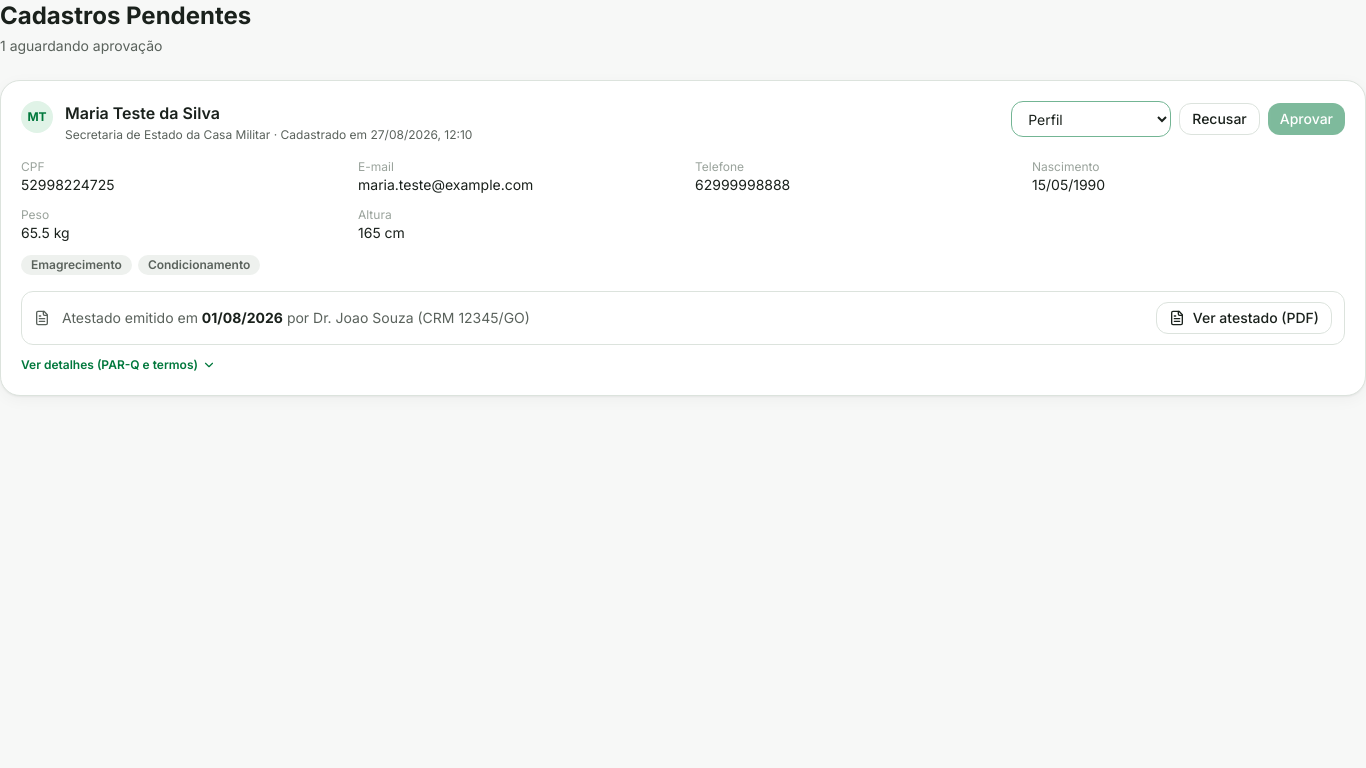
Scenario: PendingRegistrations - aprovar como instrutor › confirma e envia o perfil instrutor, sem categoria de aluno
This screenshot has width=1366, height=768.
Expected: the text "Maria Teste da Silva" is shown, [65,101,220,125]
Select "Instrutor" in the dropdown named "Perfil": point(1091, 119) [1011,101,1171,137]
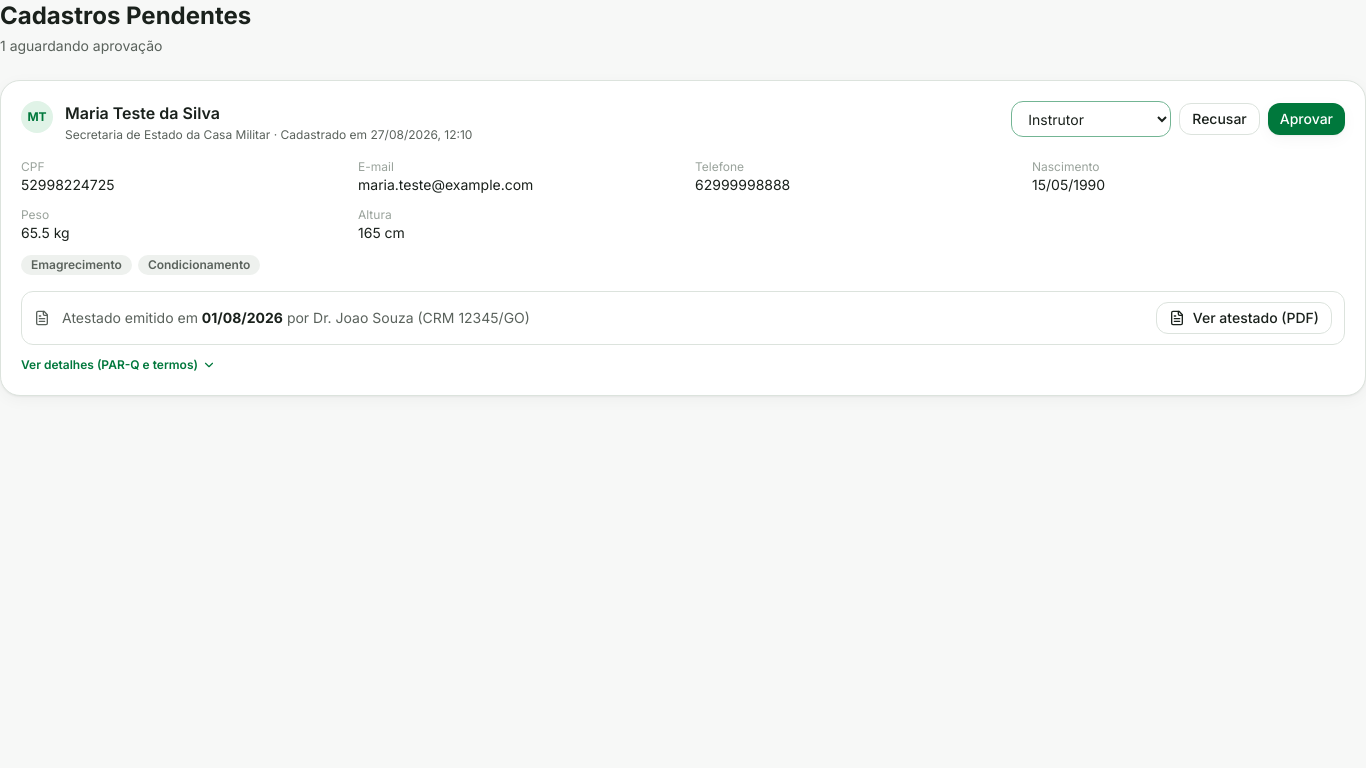
Click the button "Aprovar": point(1306, 119) [1268,103,1345,135]
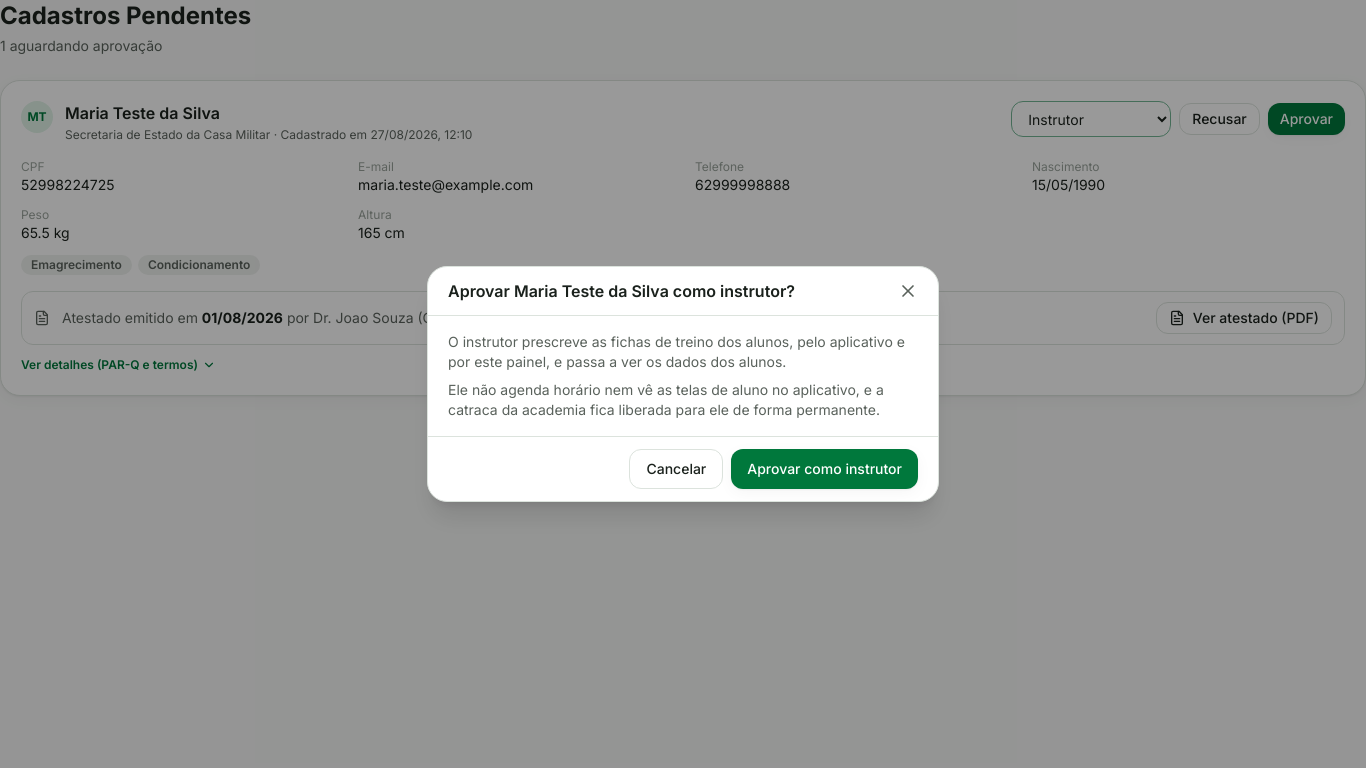
Click the button "Aprovar como instrutor": point(825, 469) [731,449,918,489]
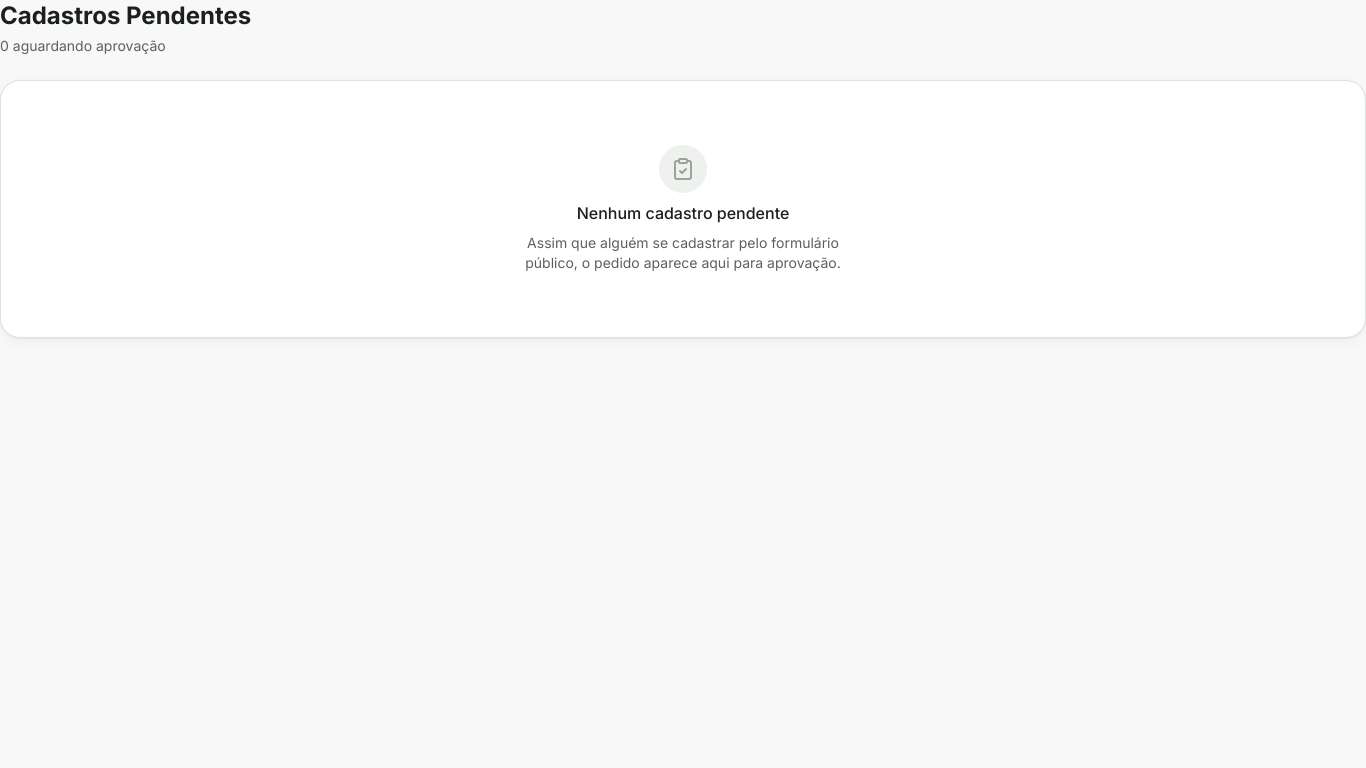
Now the text "Nenhum cadastro pendente" is shown, box [577,201,789,225]
